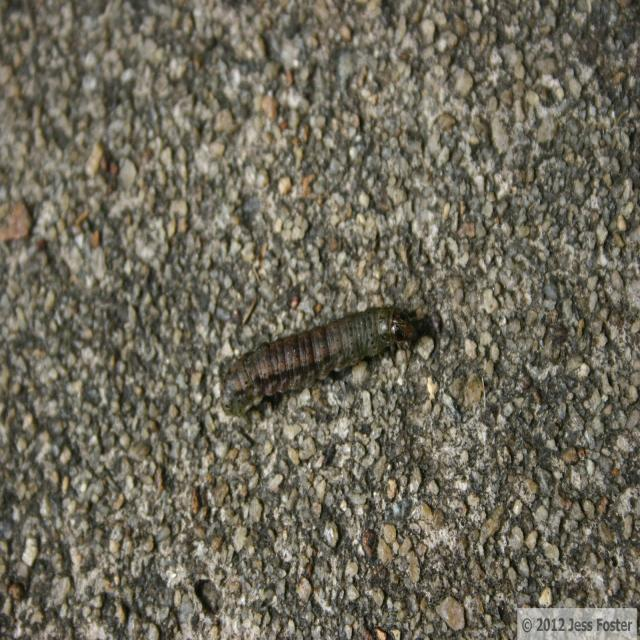pest-armyworm: (217, 294, 436, 428)
